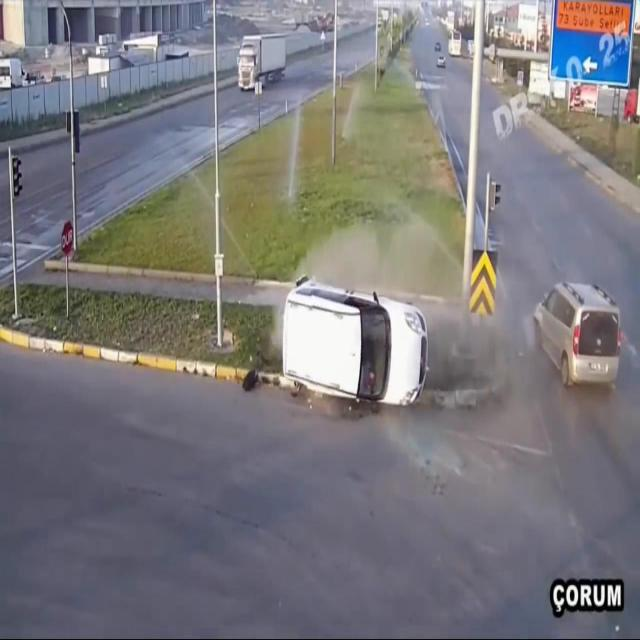severe: (282, 267, 432, 414)
